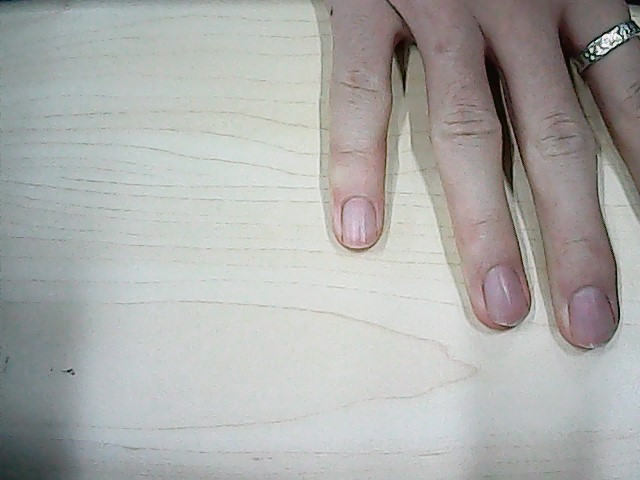nail: (568, 283, 617, 353), (482, 263, 530, 328), (340, 197, 378, 249)
